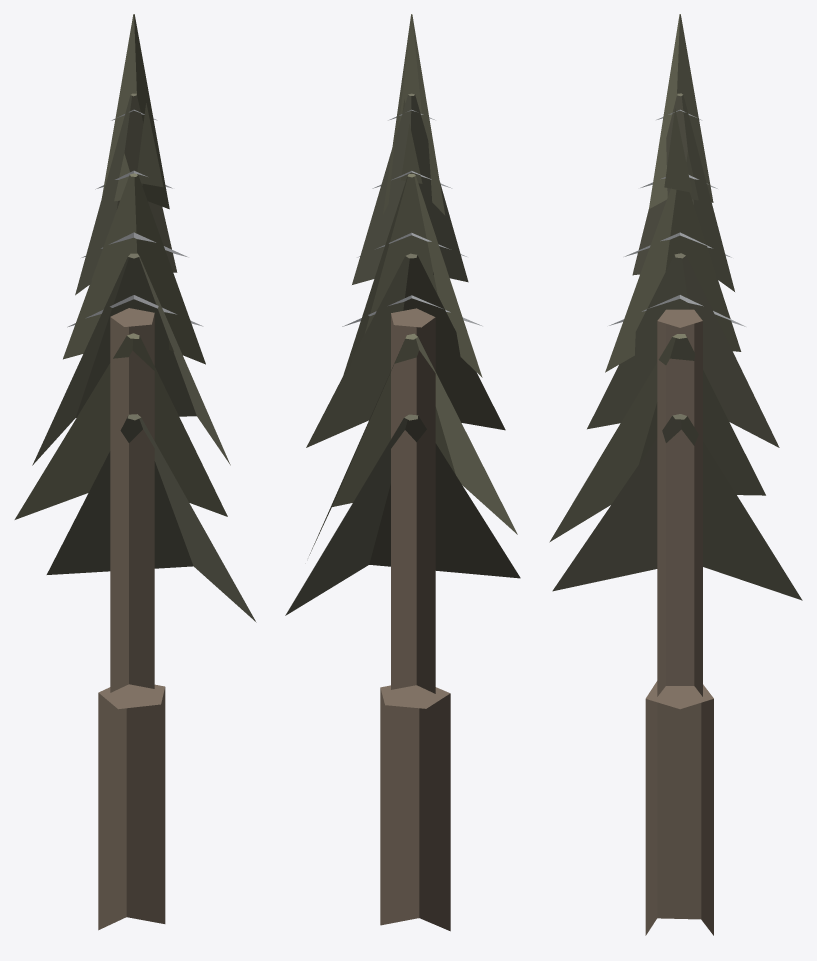
Rendered from tree.cold.larch__winter.glb.
3 views of the same model, side by side, from view 1: azimuth 30°, elevation 25°; view 2: azimuth 150°, elevation 25°; view 3: azimuth 270°, elevation 25° (orthographic).
Parts seen in each view (by area): view 1: tree.cold.larch__winter; view 2: tree.cold.larch__winter; view 3: tree.cold.larch__winter.
Part boxes in pixels (box(x1,y1,x2,y2)): tree.cold.larch__winter: box(14, 14, 256, 930); tree.cold.larch__winter: box(285, 14, 520, 931); tree.cold.larch__winter: box(549, 14, 802, 935).
Bounding box in the file's own units: 4.02 × 17.75 × 4.44.
